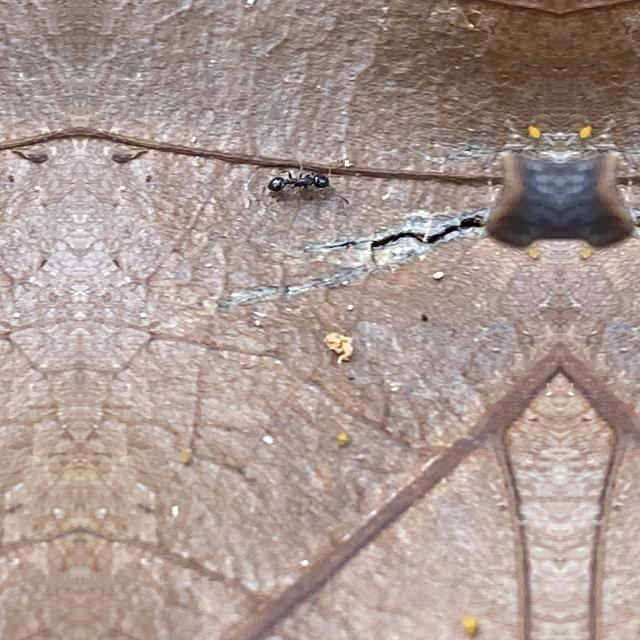Temnothorax: (256, 147, 340, 213)
